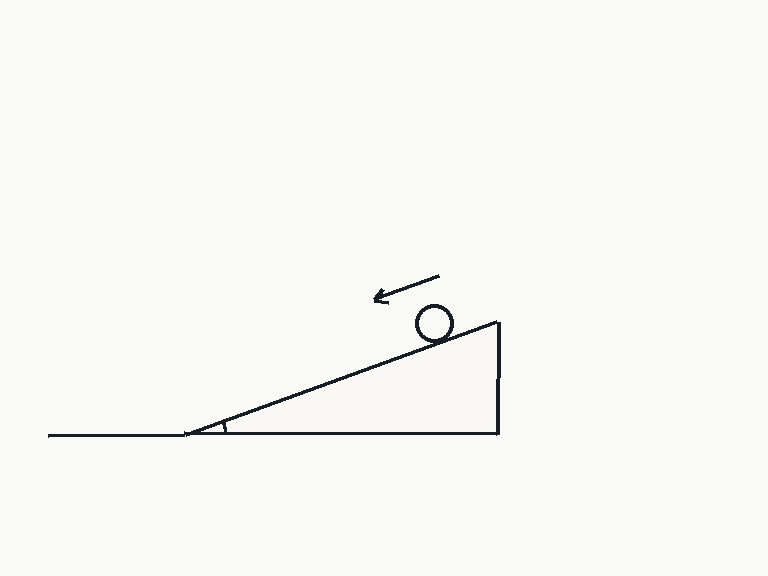ball: (413, 302, 455, 344)
ramp: (183, 318, 499, 436)
